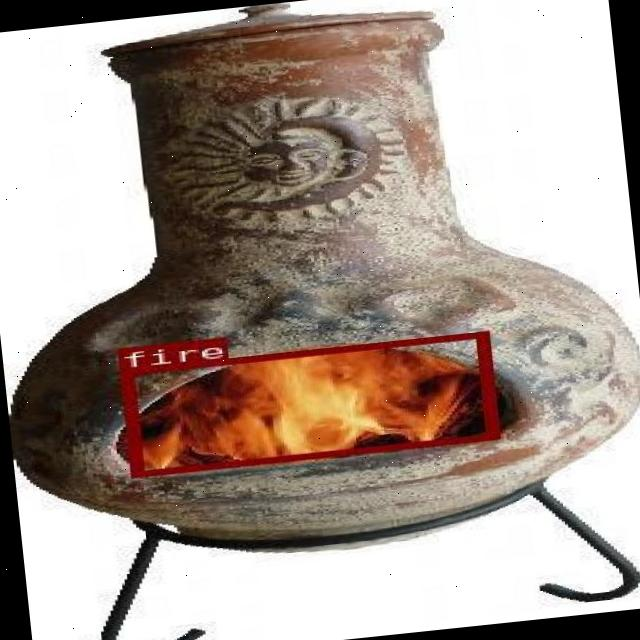fire: (117, 331, 497, 477)
